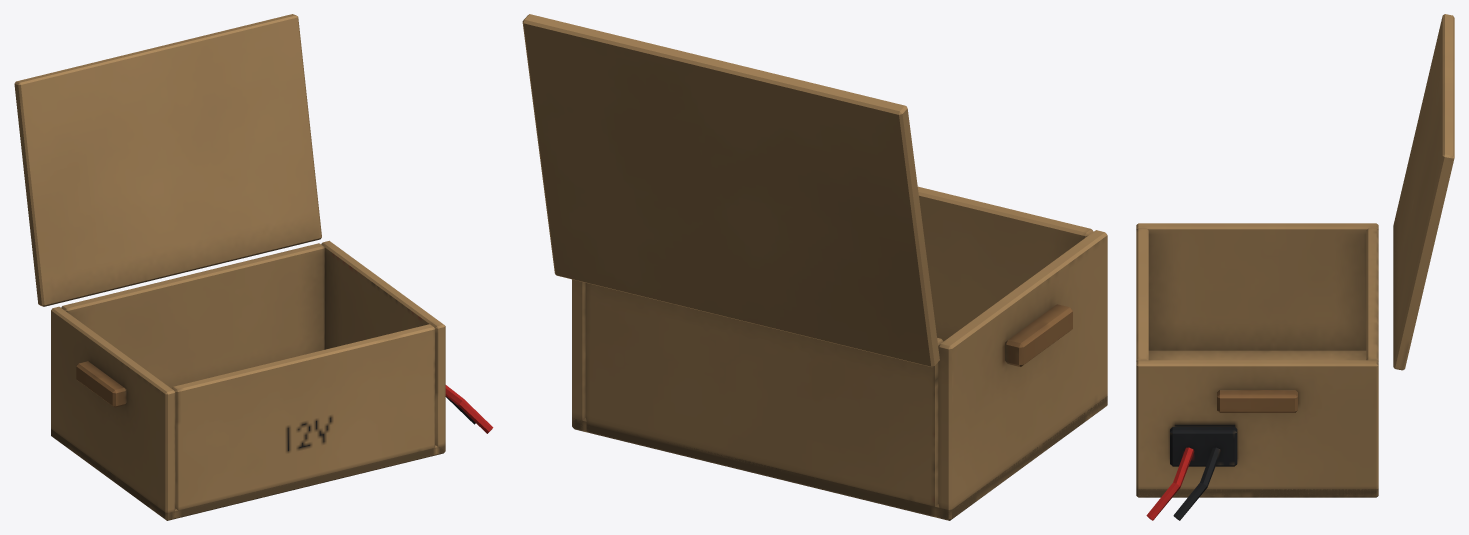
File: RenewableEnergy_BatteryBox.fbx
3 renders of one model, left to right at view 1: azimuth 30°, elevation 25°; view 2: azimuth 150°, elevation 25°; view 3: azimuth 270°, elevation 25°, orthographic. The views are drawn at different scales.
Parts seen in each view (by area): view 1: BatteryBox; view 2: BatteryBox; view 3: BatteryBox.
Boxes of the visible parts, box(x1,y1,x2,y2) form: BatteryBox: box(14, 14, 493, 520); BatteryBox: box(522, 14, 1107, 520); BatteryBox: box(1136, 14, 1454, 520).
Size of the model in its own units: 0.6202 by 0.5634 by 0.473.
